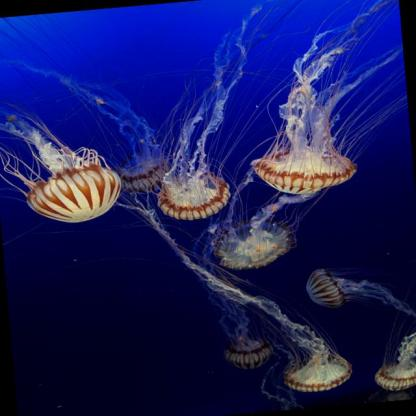jellyfish: (24, 164, 124, 227), (252, 148, 364, 198), (211, 223, 294, 270), (281, 349, 355, 394), (157, 177, 228, 221), (118, 153, 171, 193), (303, 265, 347, 310), (218, 336, 273, 370), (370, 360, 415, 392), (356, 388, 414, 404)
